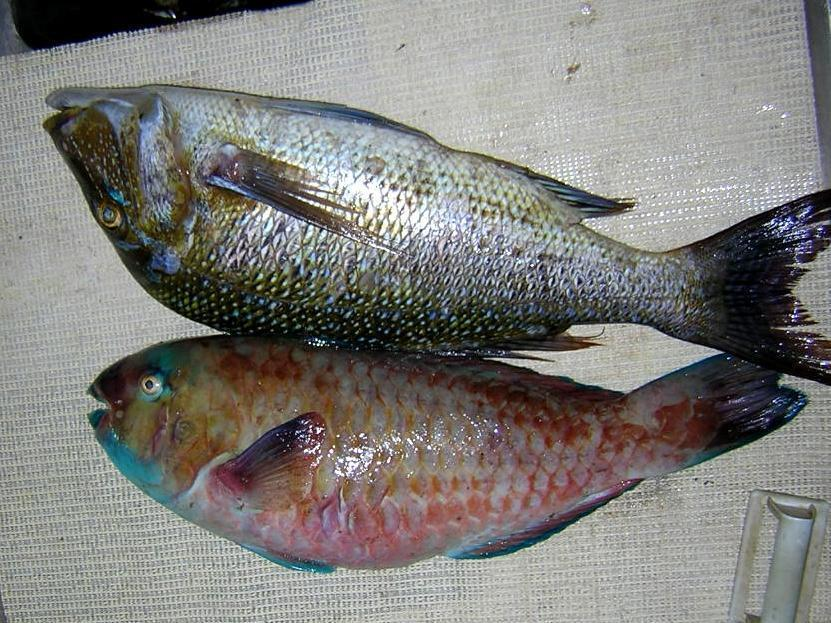Chlorurus sordidus: (66, 324, 801, 594)
